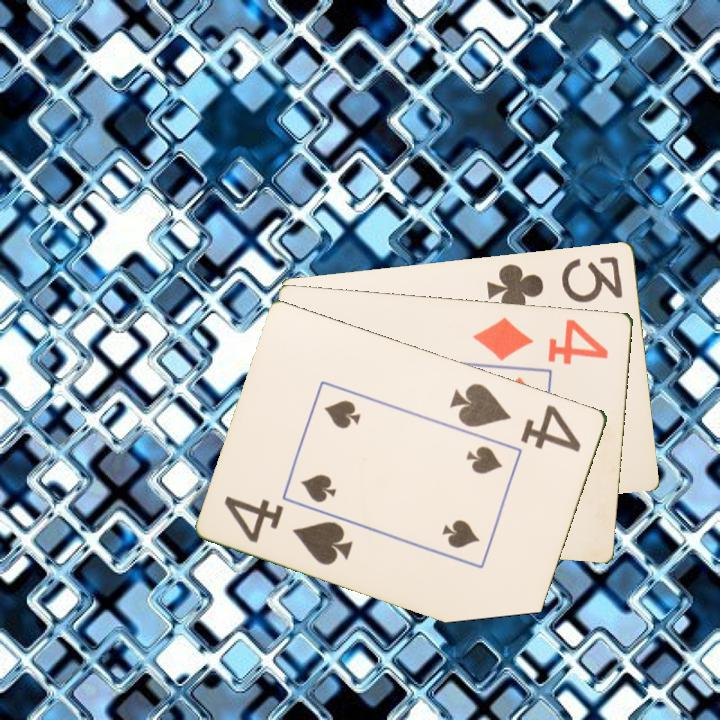3c: (484, 252, 626, 315)
4d: (470, 313, 612, 367)
4s: (447, 379, 585, 455), (221, 492, 357, 568)
